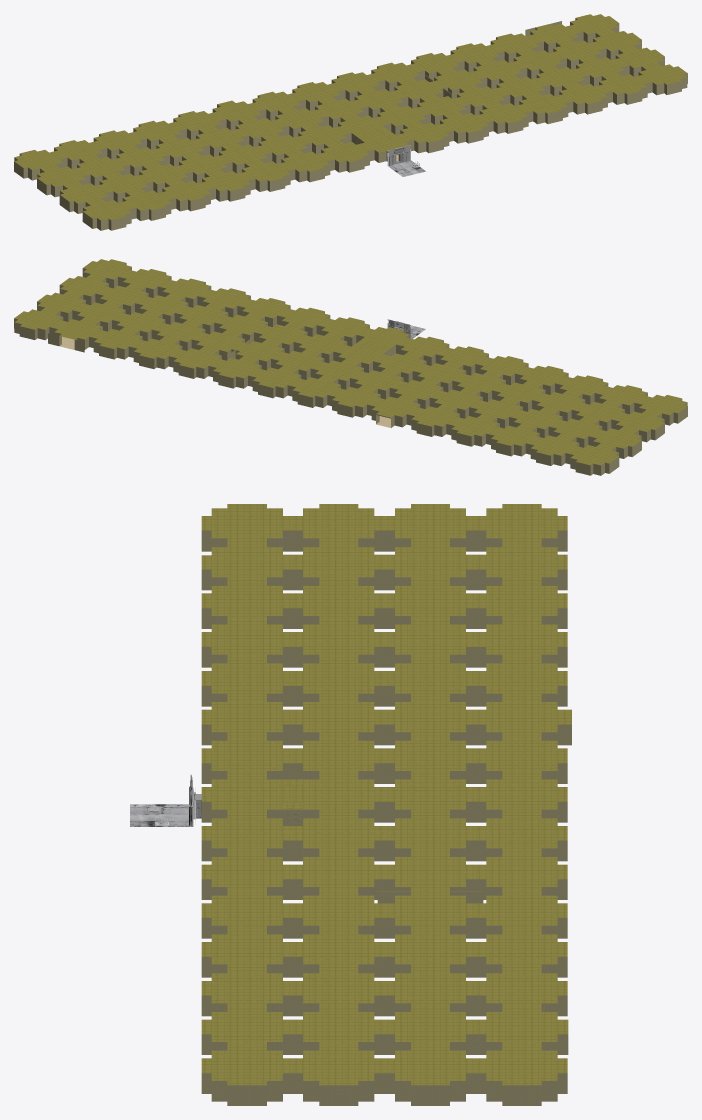
File: backrooms_kane_pixels_map_asinc.glb
3 views of the same model, one above another, from view 1: azimuth 30°, elevation 25°; view 2: azimuth 150°, elevation 25°; view 3: azimuth 270°, elevation 25° (orthographic). The views are drawn at different scales.
Parts seen in each view (by area): view 1: Latteral Divison_KANE CEILING_0_79, Latteral Divison_KANE WALL_0_78, Plane_floor_0_65; view 2: Latteral Divison_KANE CEILING_0_79, Latteral Divison_KANE WALL_0_78; view 3: Latteral Divison_KANE CEILING_0_79, Latteral Divison_KANE WALL_0_78, Plane_floor_0_65.
Part boxes in pixels (bbox=[...]): Latteral Divison_KANE CEILING_0_79: bbox=[14, 14, 687, 220]; Latteral Divison_KANE WALL_0_78: bbox=[14, 18, 687, 230]; Plane_floor_0_65: bbox=[388, 160, 425, 176]; Latteral Divison_KANE CEILING_0_79: bbox=[14, 259, 687, 465]; Latteral Divison_KANE WALL_0_78: bbox=[14, 263, 687, 475]; Latteral Divison_KANE CEILING_0_79: bbox=[201, 504, 571, 1085]; Latteral Divison_KANE WALL_0_78: bbox=[201, 530, 571, 1105]; Plane_floor_0_65: bbox=[130, 804, 193, 826].
Size of the model in its own units: 323 by 8.1 by 104.
Materials: 13 (6 with a texture image).
